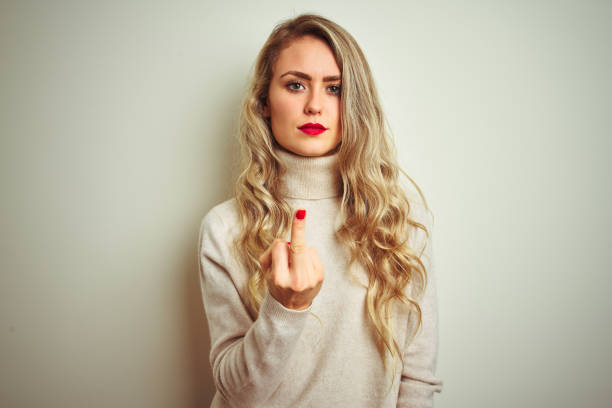insulting_gesture: (262, 209, 328, 305)
